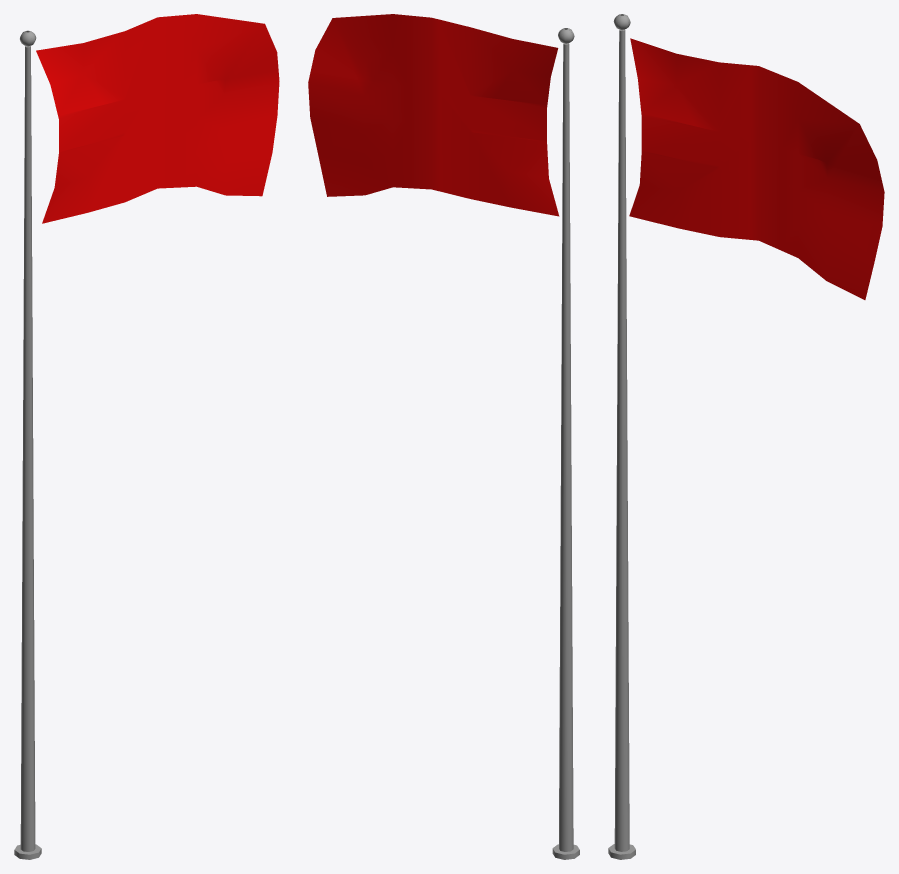
Rendered from flag-model.obj.
3 views of the same model, side by side, from view 1: azimuth 30°, elevation 25°; view 2: azimuth 150°, elevation 25°; view 3: azimuth 330°, elevation 25° (orthographic). The views are drawn at different scales.
Visible parts, largest first — view 1: Layer0_001, Flag_Quarter_003, Flag_Quarter_001, Flag_Quarter_002; view 2: Layer0_001, Flag_Quarter_002, Flag_Quarter_004, Flag_Quarter_003; view 3: Layer0_001, Flag_Quarter_001, Flag_Quarter_003, Flag_Quarter_004.
Boxes of the visible parts, x1,y1,x2,y2 form: Layer0_001: [36, 14, 279, 223]; Flag_Quarter_003: [17, 32, 34, 859]; Flag_Quarter_001: [29, 31, 41, 858]; Flag_Quarter_002: [14, 31, 26, 856]; Layer0_001: [308, 14, 559, 216]; Flag_Quarter_002: [560, 29, 577, 859]; Flag_Quarter_004: [552, 28, 565, 858]; Flag_Quarter_003: [567, 28, 579, 856]; Layer0_001: [629, 38, 884, 299]; Flag_Quarter_001: [615, 15, 633, 859]; Flag_Quarter_003: [608, 14, 621, 858]; Flag_Quarter_004: [623, 14, 635, 856].
Size of the model in its own units: 186 by 550 by 15.31.
